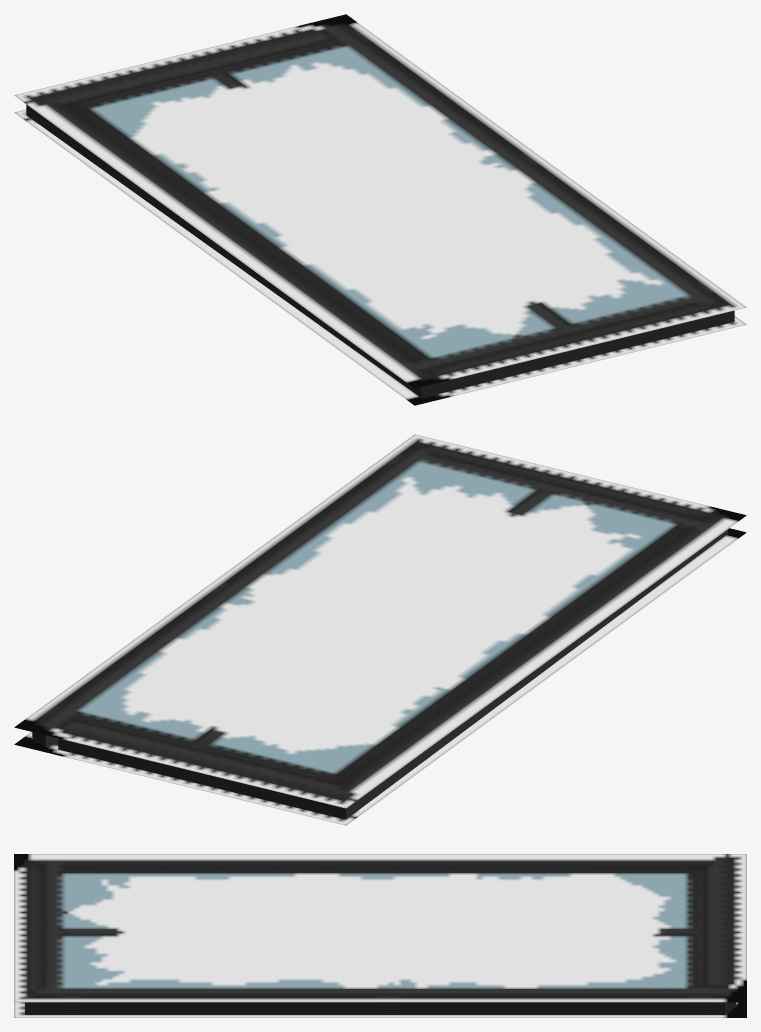
File: pz_native_fixtures_windows_metal_67_frame.obj
3 renders of one model, top to bottom at view 1: azimuth 30°, elevation 25°; view 2: azimuth 150°, elevation 25°; view 3: azimuth 270°, elevation 25°, orthographic. The views are drawn at different scales.
Visible parts, largest first — view 1: pz_native_fixtures_windows_metal_67_frame; view 2: pz_native_fixtures_windows_metal_67_frame; view 3: pz_native_fixtures_windows_metal_67_frame.
Part boxes in pixels (box(x1,y1,x2,y2)): pz_native_fixtures_windows_metal_67_frame: box(14, 14, 746, 405); pz_native_fixtures_windows_metal_67_frame: box(14, 434, 746, 825); pz_native_fixtures_windows_metal_67_frame: box(14, 854, 746, 1017).
Size of the model in its own units: 0.8125 by 0.04 by 1.7.
1 material, 1 textured.
